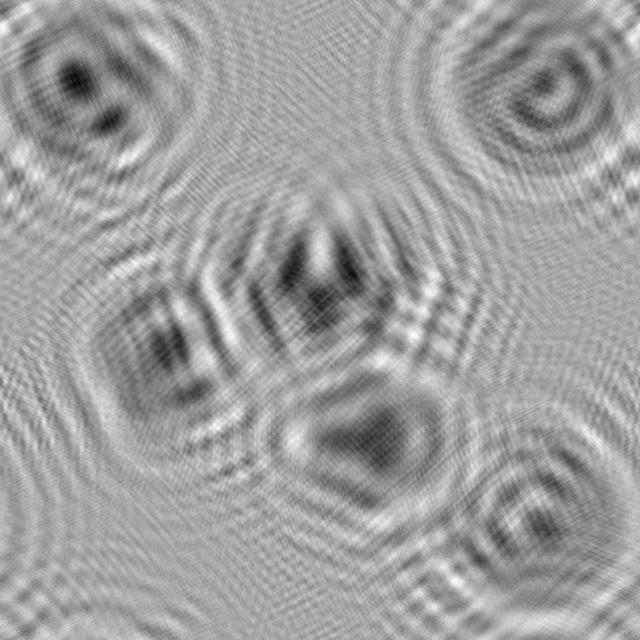A: (233, 334, 487, 556)
D: (418, 0, 640, 202)
F: (40, 244, 286, 505)
R: (0, 0, 221, 217)
U: (417, 407, 640, 640)
W: (189, 164, 487, 409)
